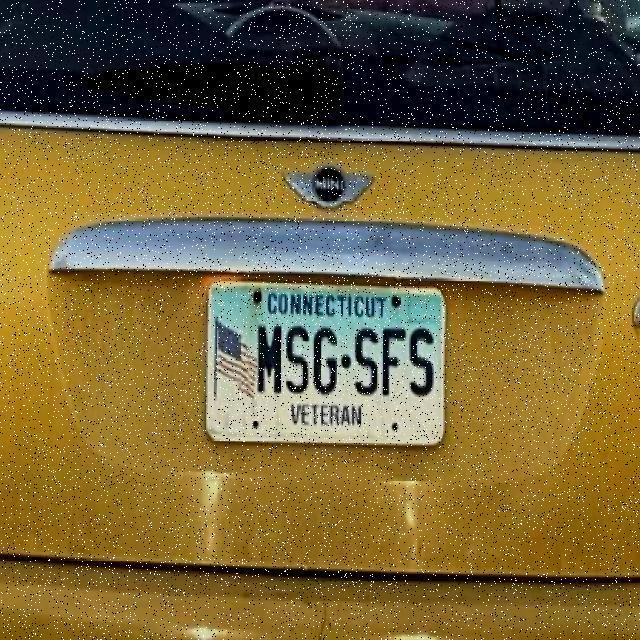LicensePlate: (201, 278, 447, 446)
